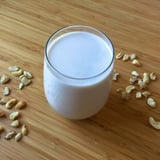glass of milk: (43, 24, 114, 120)
